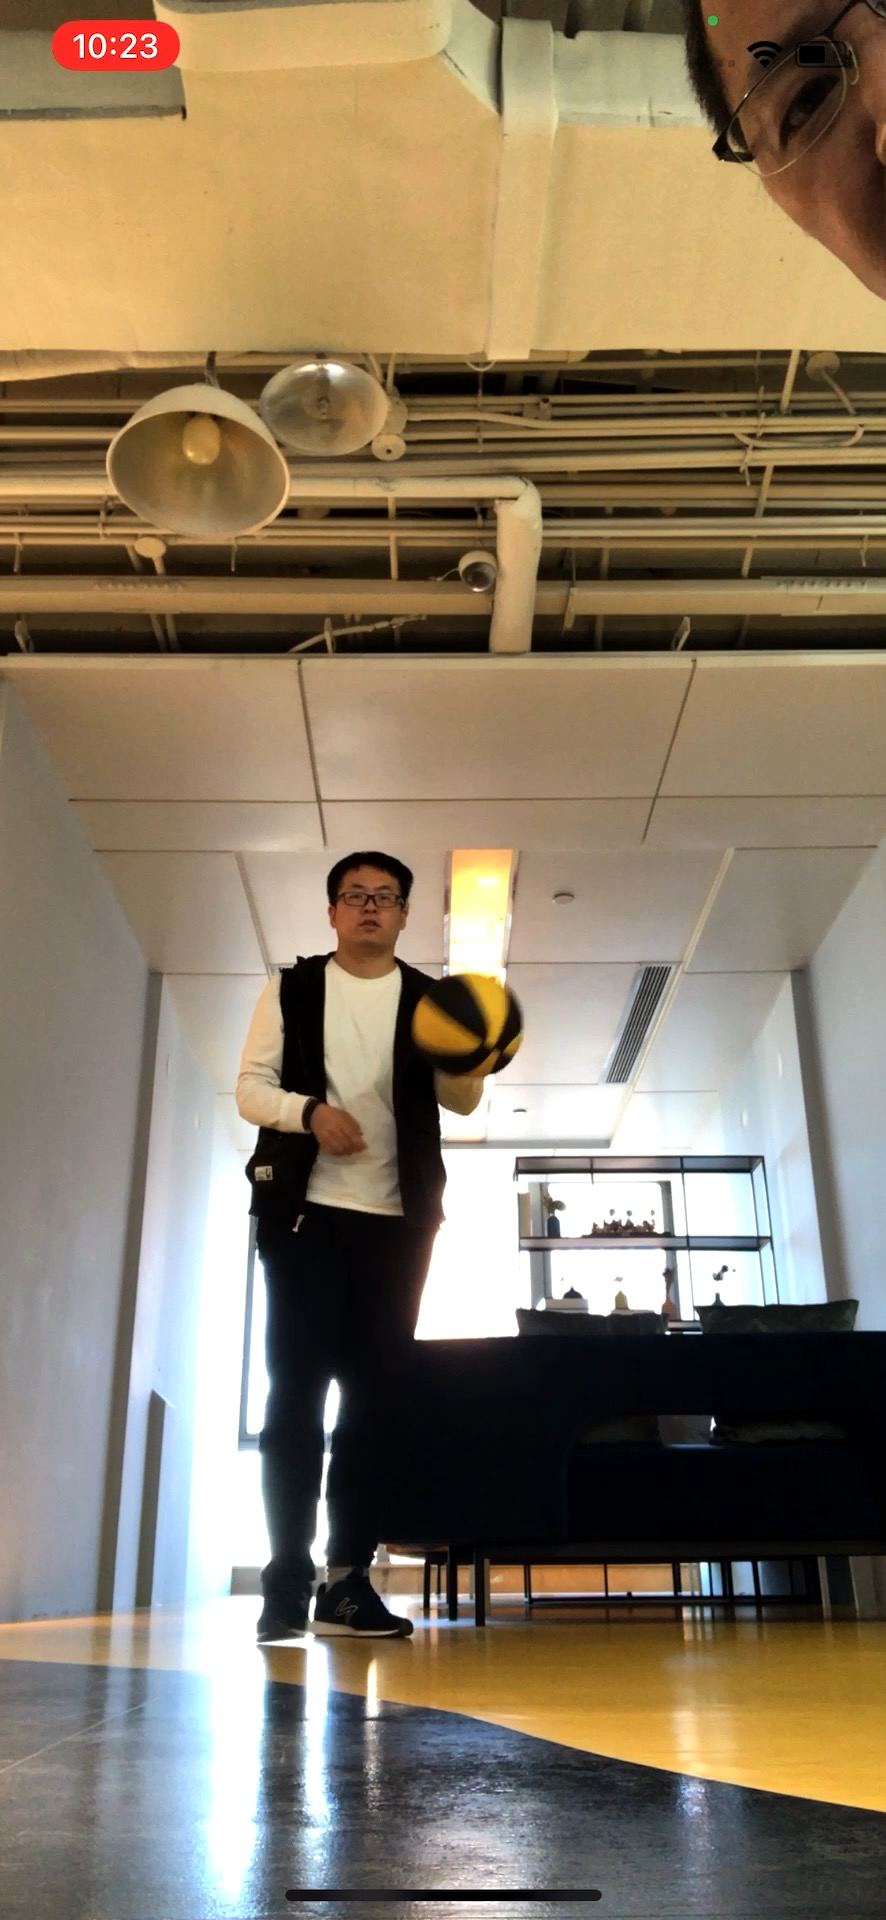ball: (410, 973, 527, 1076)
